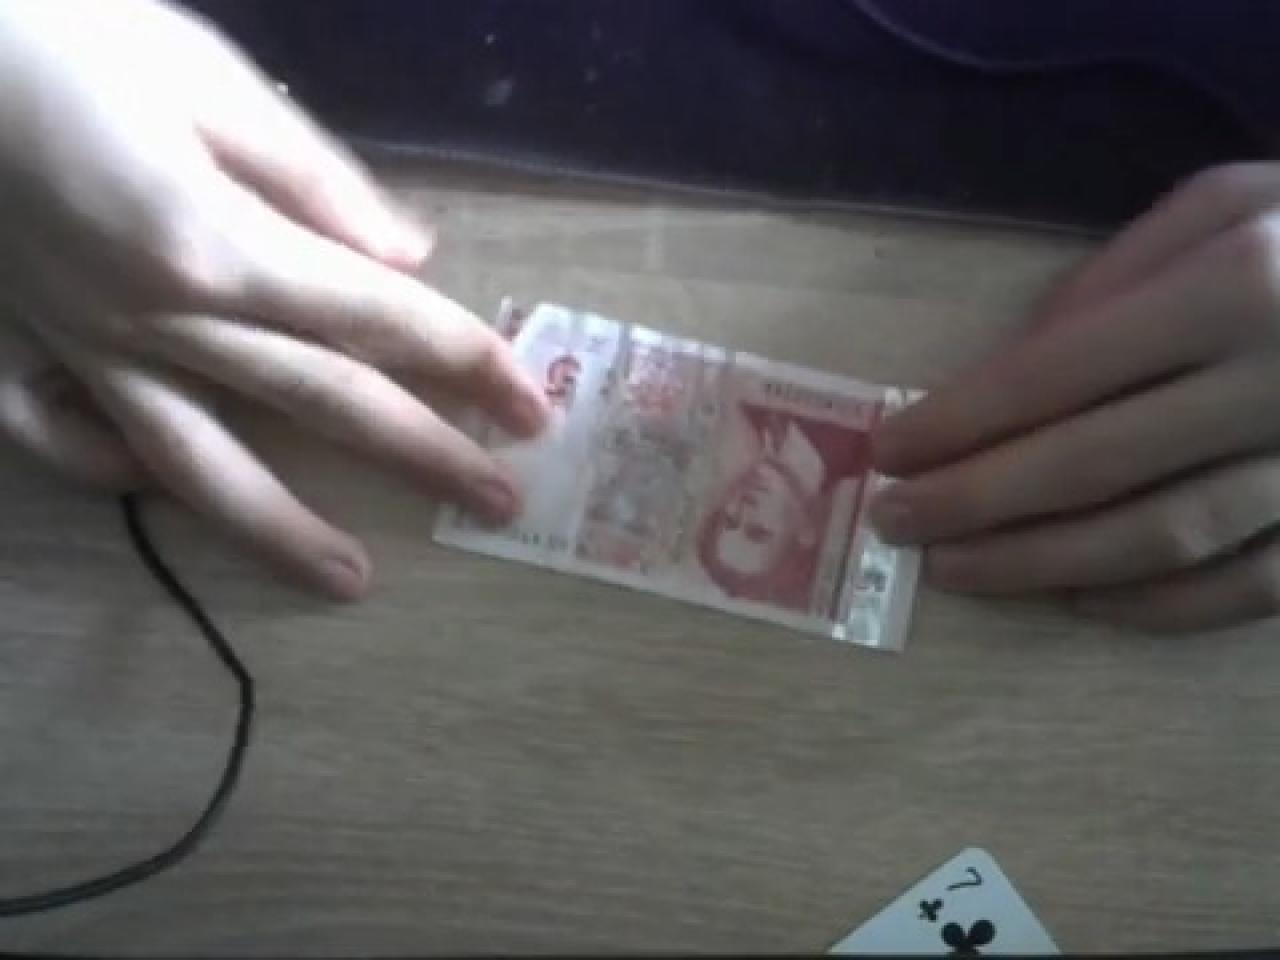5leva: (437, 302, 925, 650)
